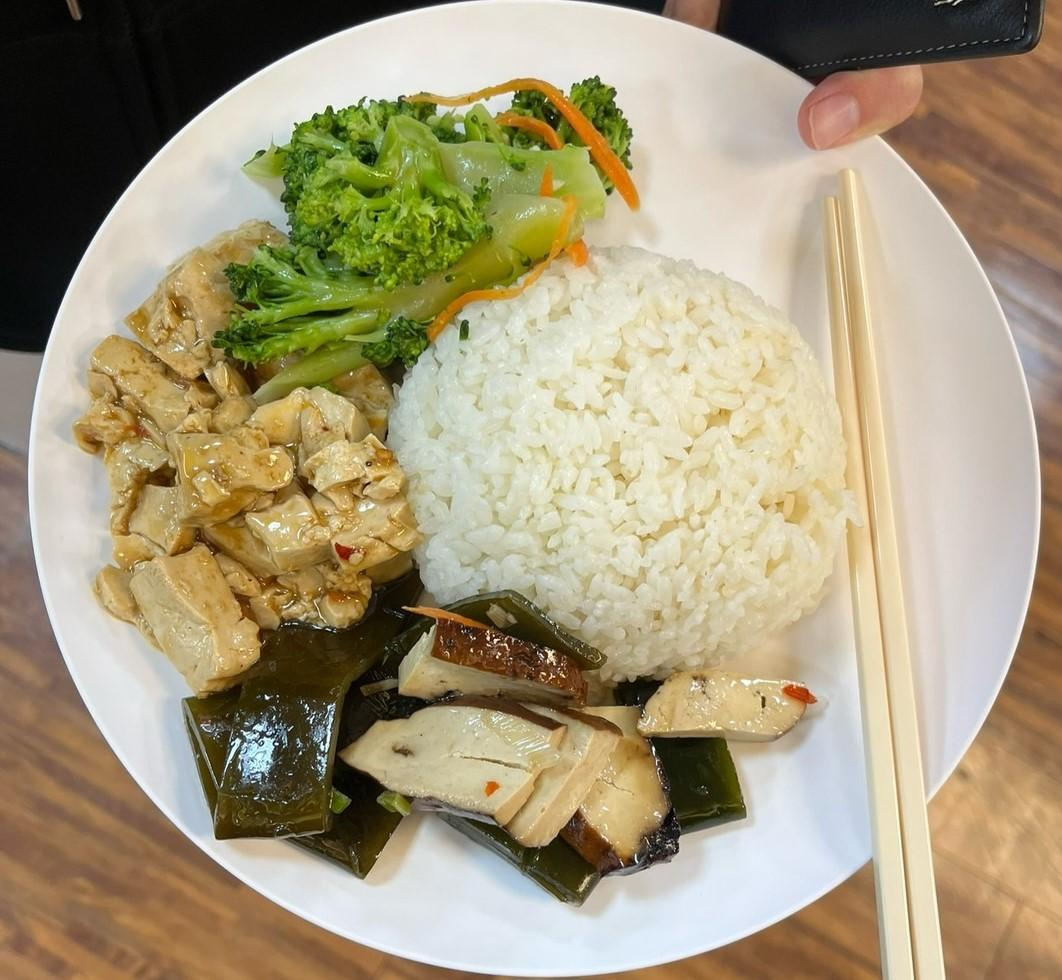big fried chicken leg: (28, 0, 1058, 980)
big herbal chicken leg: (392, 238, 845, 677)
braised fish fillet: (172, 588, 823, 895), (62, 222, 423, 687), (227, 65, 642, 394)
